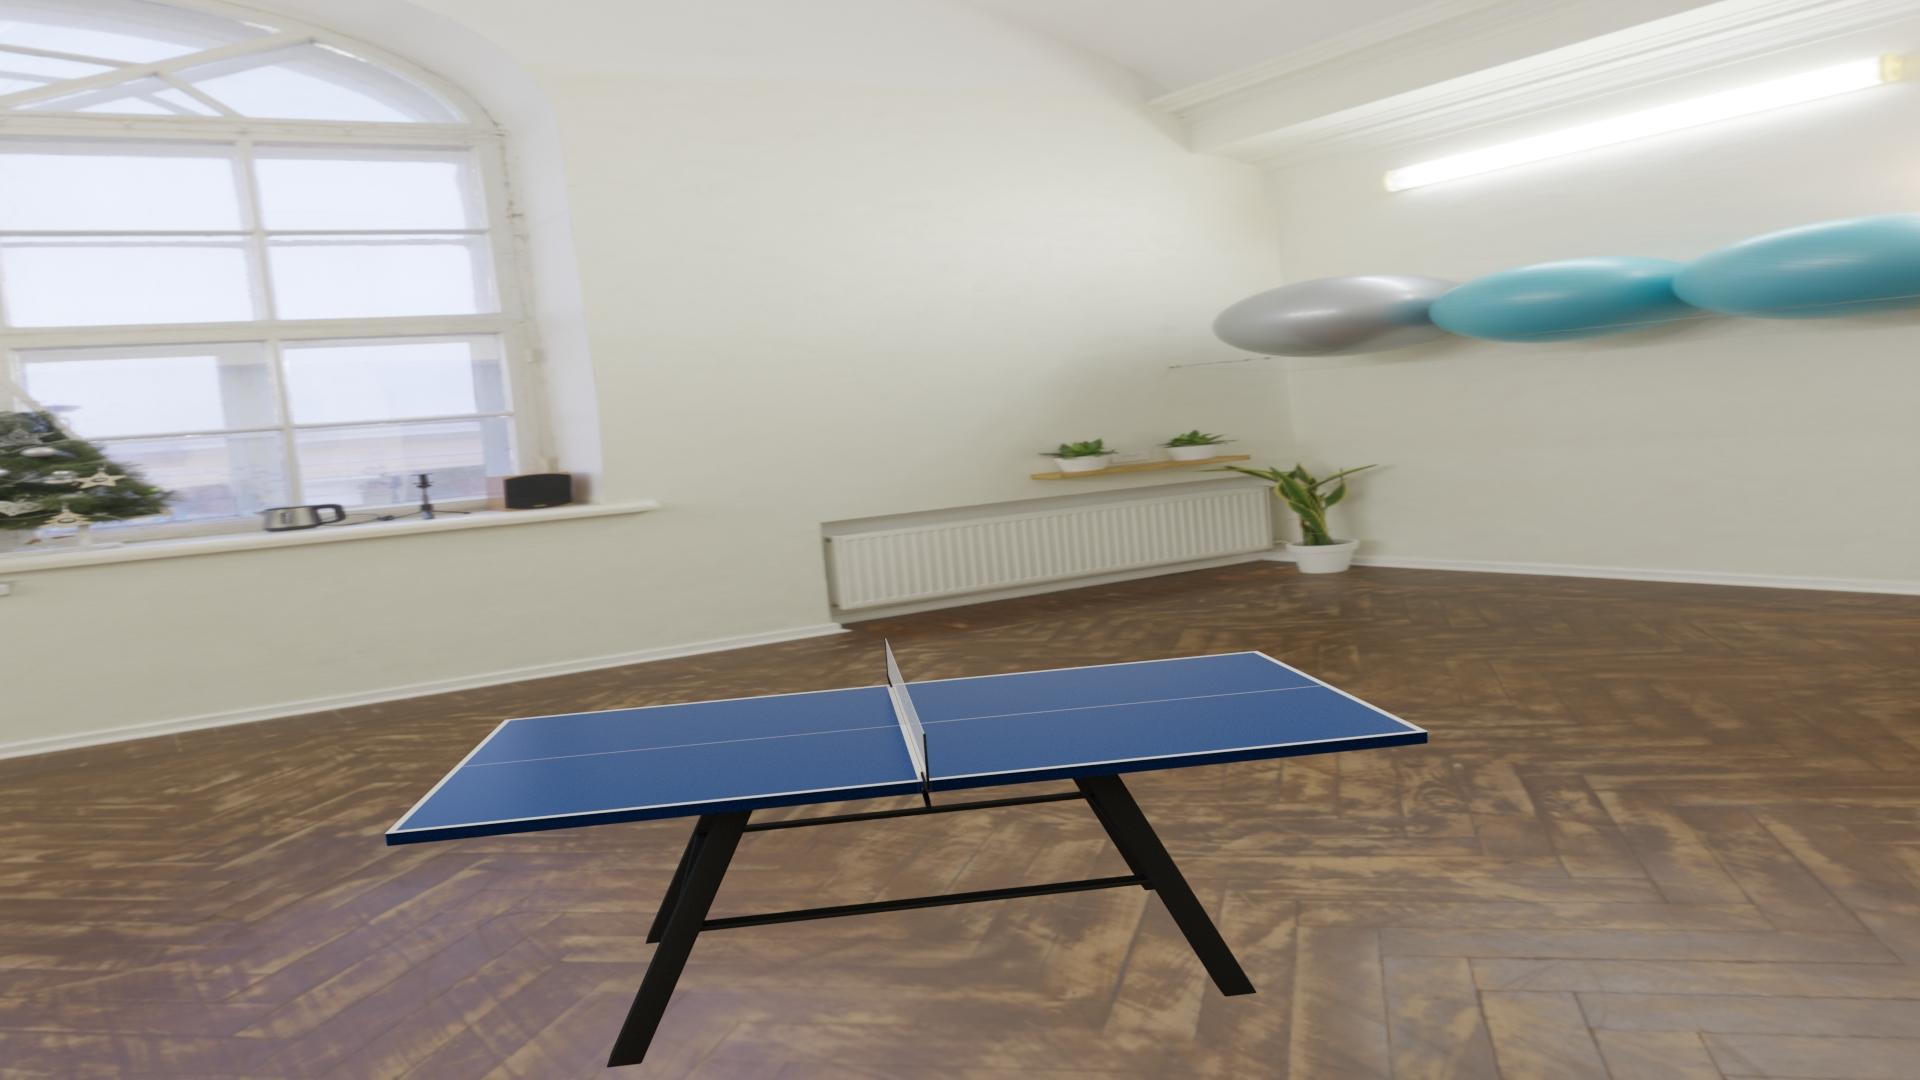table: (396, 653, 1418, 831)
